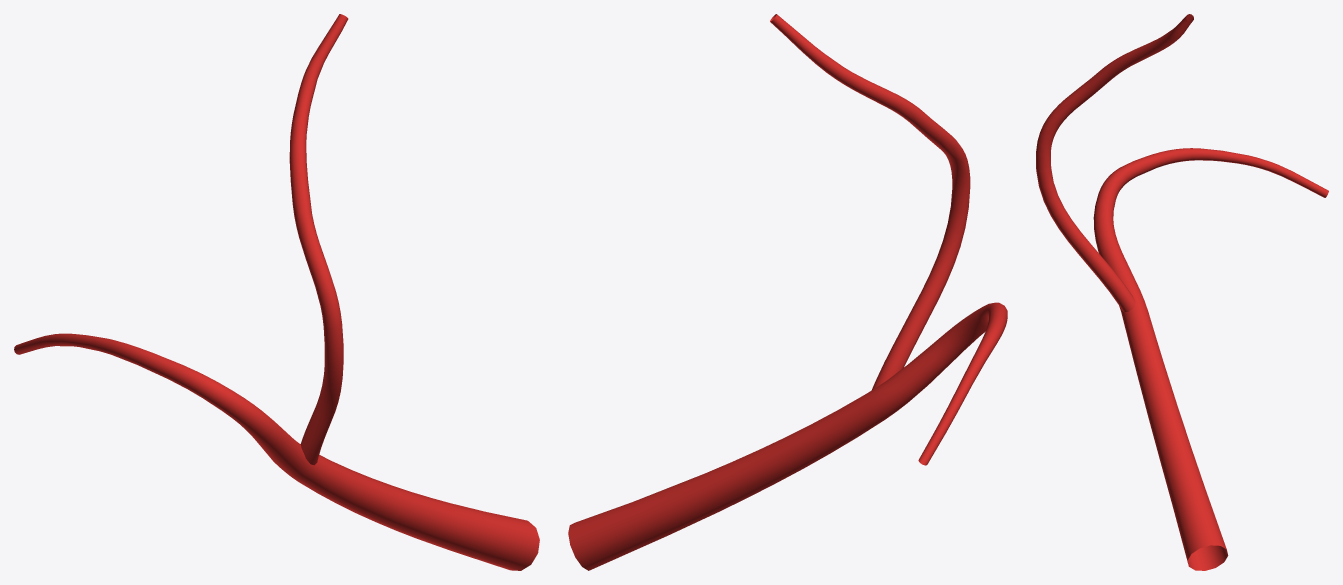
The model's file is circulatorio-anterior-circumflex-humeral-artery-r.glb.
3 renders of one model, left to right at view 1: azimuth 30°, elevation 25°; view 2: azimuth 150°, elevation 25°; view 3: azimuth 270°, elevation 25°, orthographic. The views are drawn at different scales.
Visible parts, largest first — view 1: Anterior circumflex humeral artery.r; view 2: Anterior circumflex humeral artery.r; view 3: Anterior circumflex humeral artery.r.
Part boxes in pixels (left/top/right/bottom): Anterior circumflex humeral artery.r: left=14, top=14, right=539, bottom=570; Anterior circumflex humeral artery.r: left=568, top=14, right=1007, bottom=570; Anterior circumflex humeral artery.r: left=1036, top=14, right=1328, bottom=570.
Size of the model in its own units: 0.0484 by 0.0634 by 0.0346.
